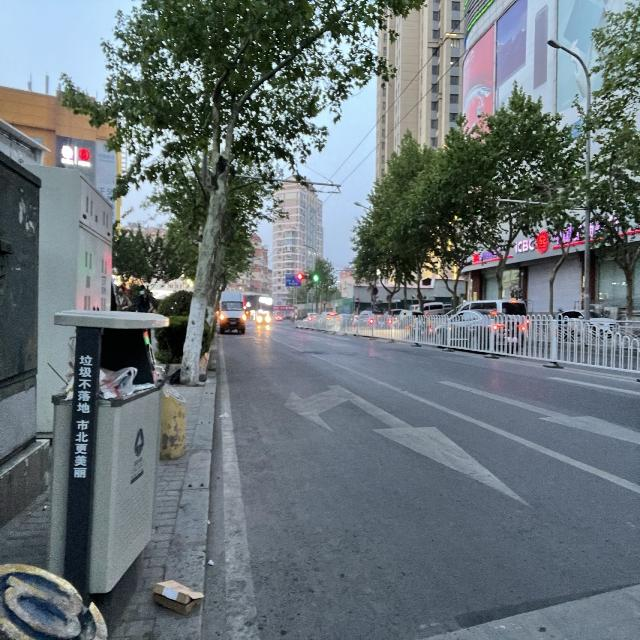garbage: (152, 577, 202, 614)
overflow: (47, 308, 169, 597)
